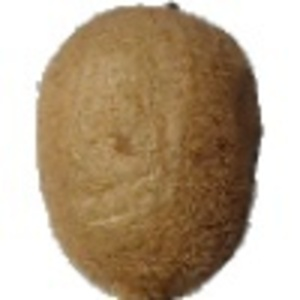kiwi: (34, 3, 264, 300)
